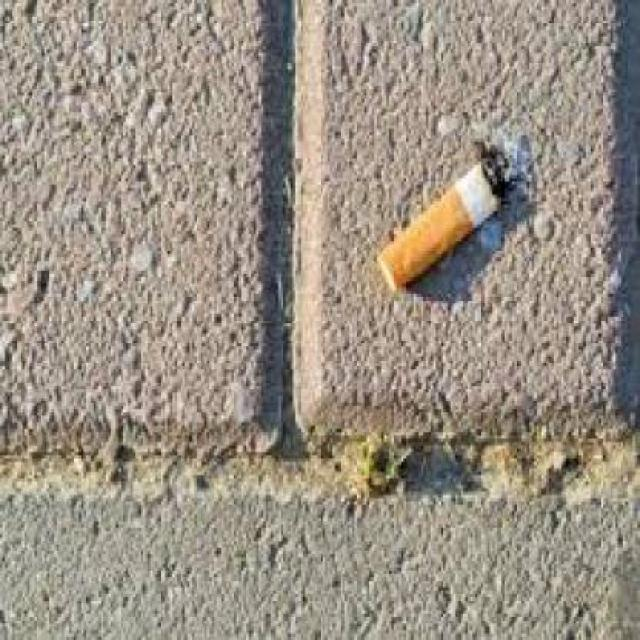cigarette: (374, 152, 529, 300)
